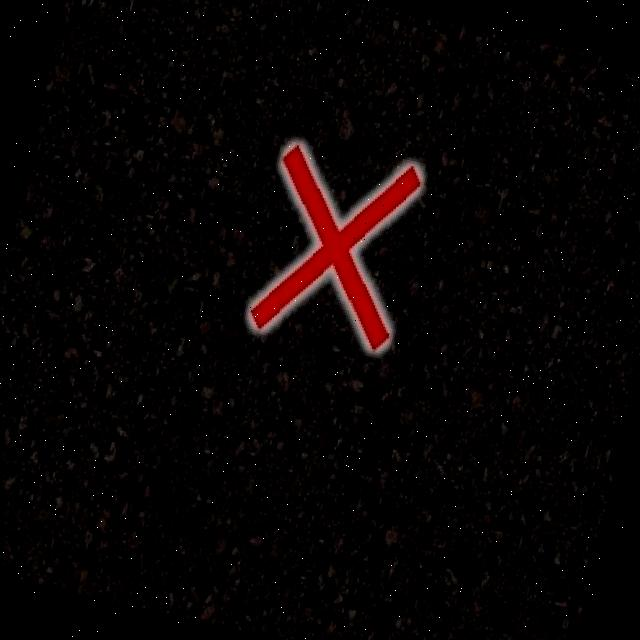x_marker: (244, 136, 426, 355)
